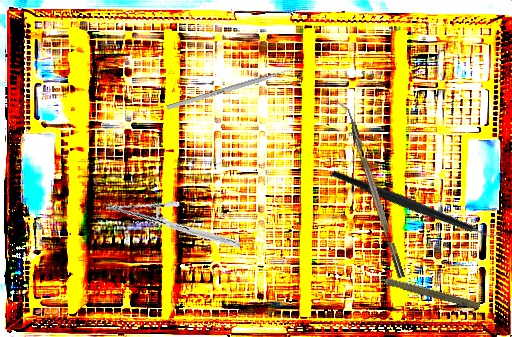Chopper: (329, 118, 506, 288), (335, 98, 405, 282)
Handpiece: (367, 268, 482, 312)
Needle Holder: (105, 176, 241, 275)
Pusher: (166, 64, 301, 111)
